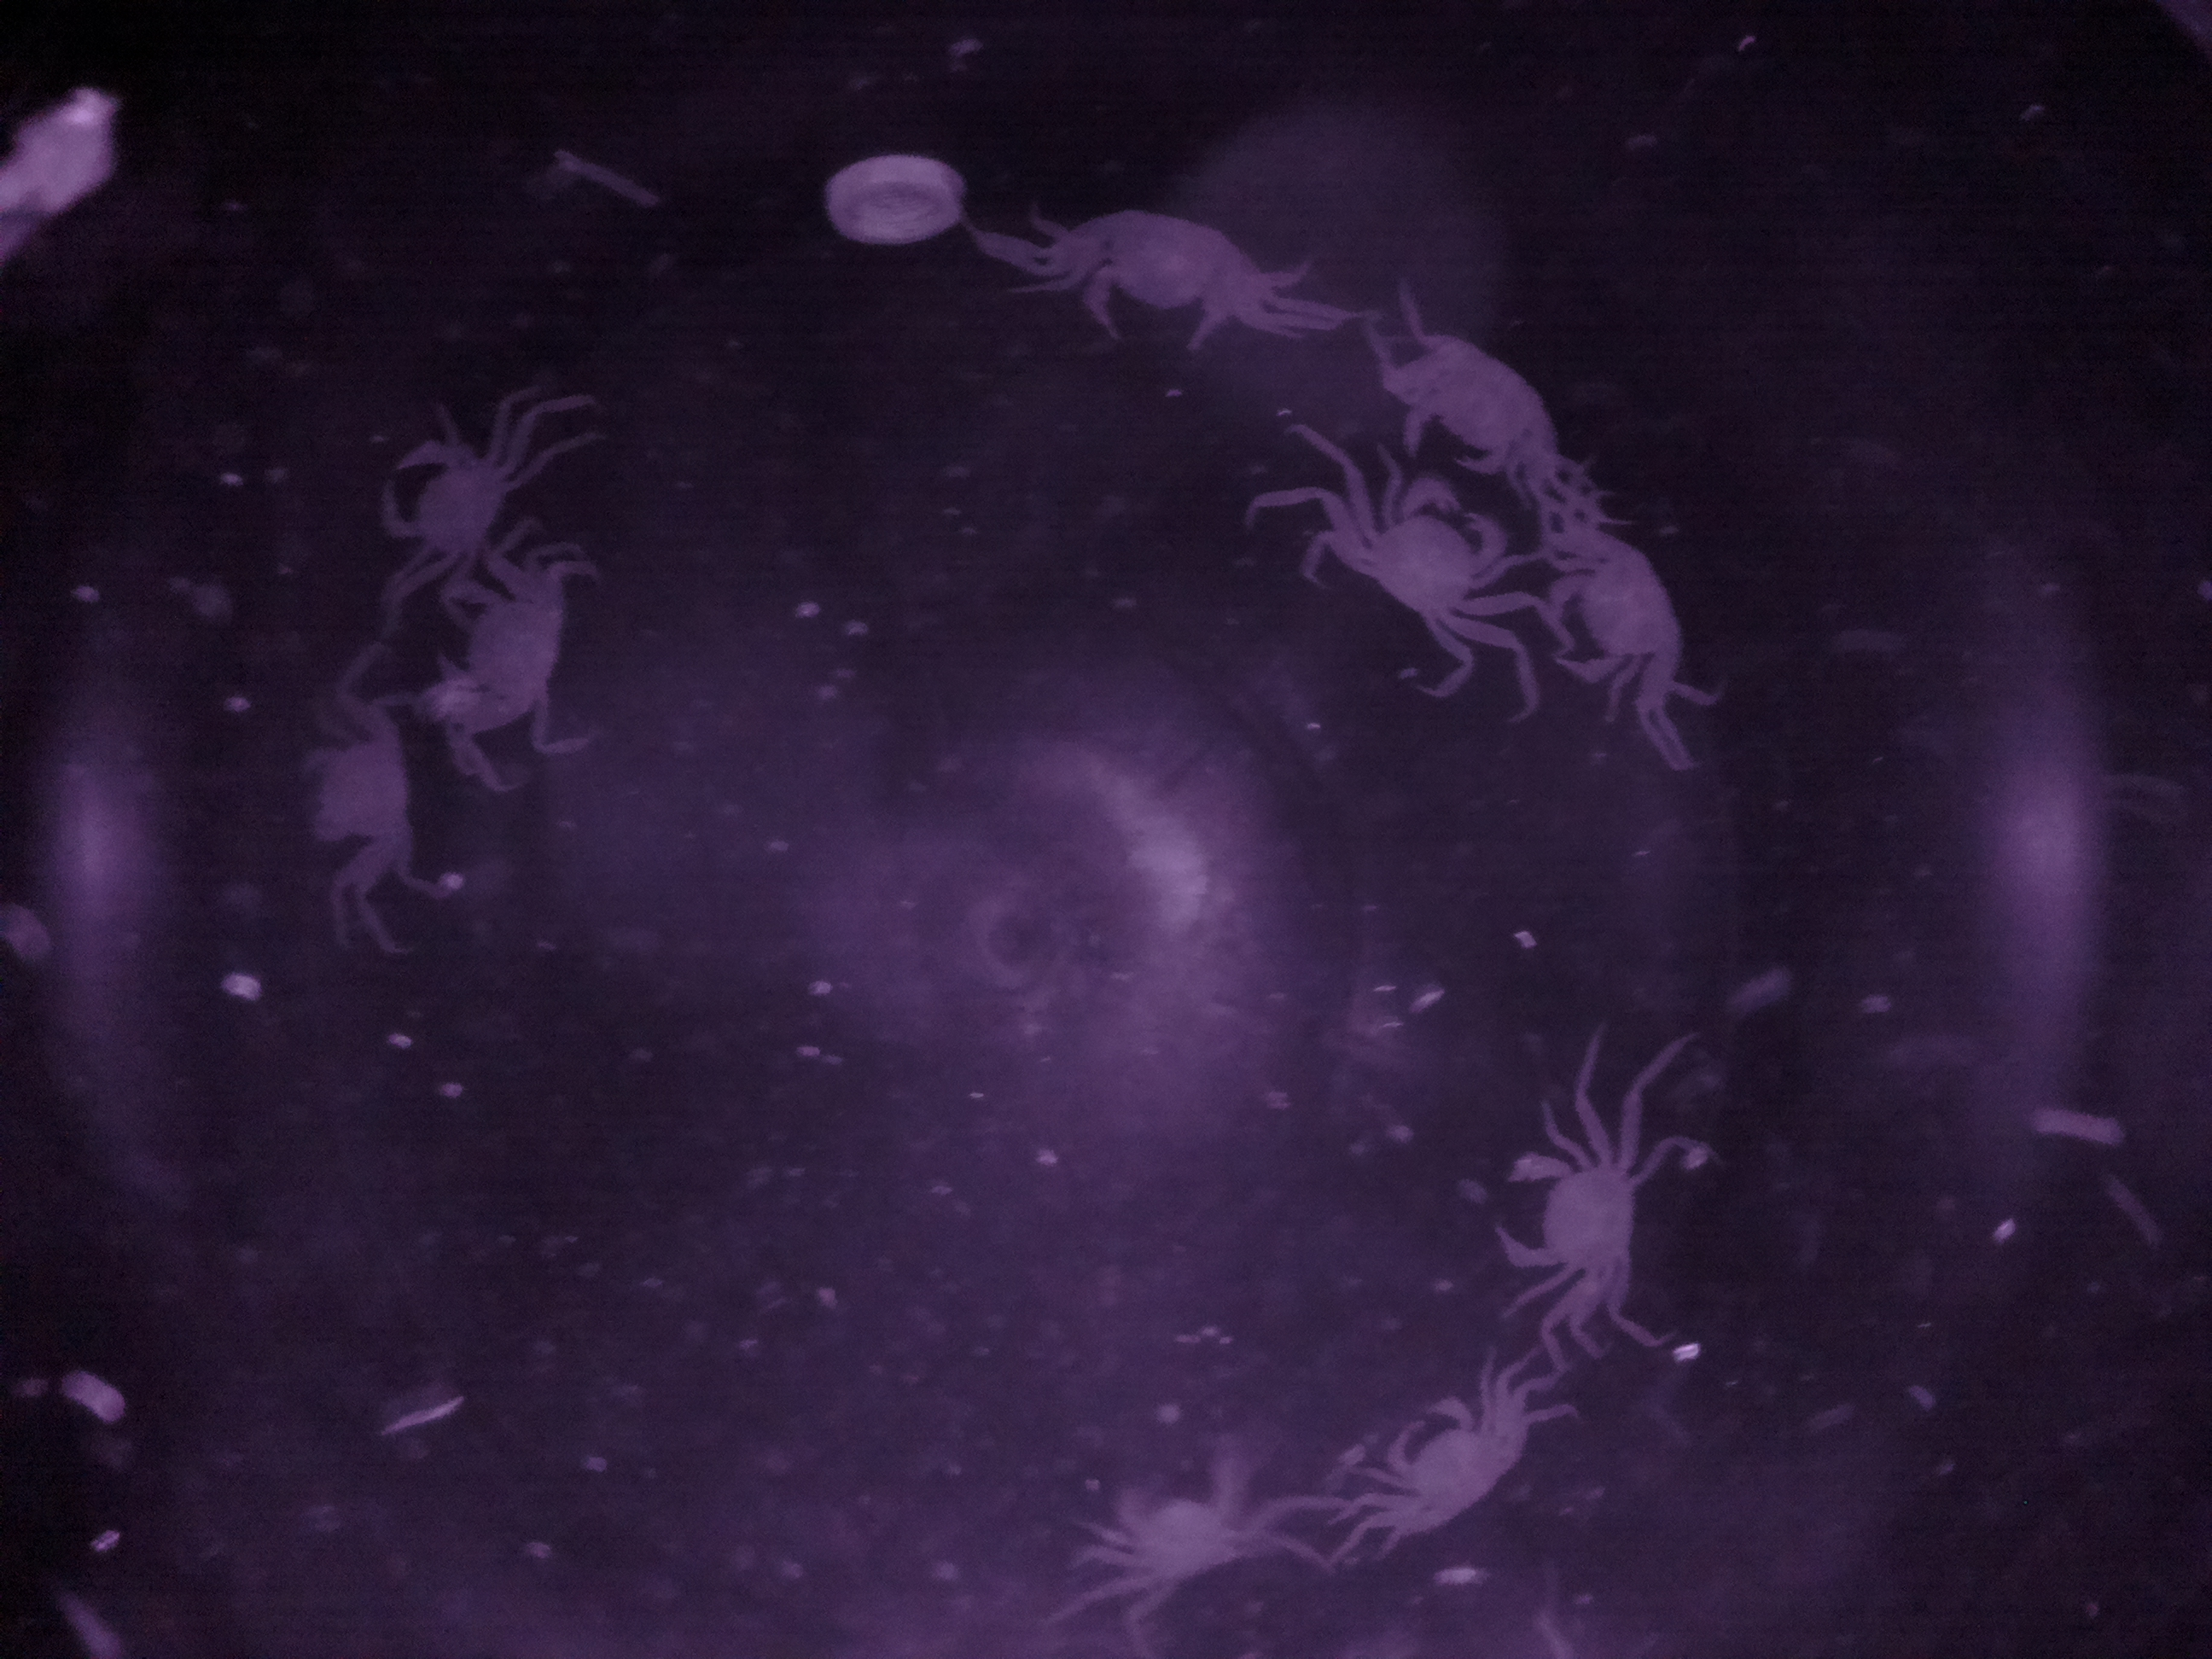Crab: (1029, 199, 1294, 371), (1526, 505, 1719, 701), (1491, 1108, 1662, 1321), (1374, 303, 1564, 491), (1355, 1378, 1531, 1563), (1345, 471, 1512, 653), (355, 418, 524, 589)
